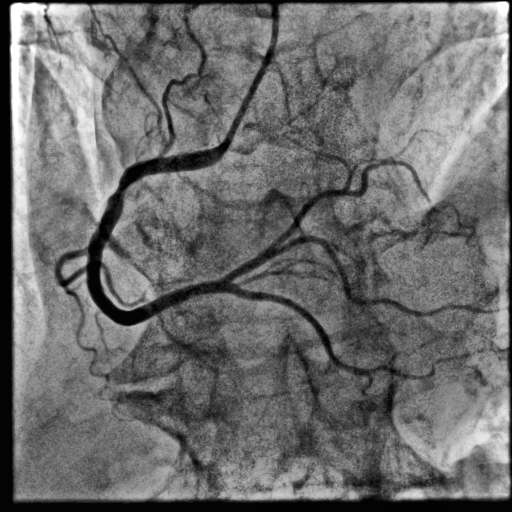pborca: (223, 161, 429, 284)
pda: (226, 284, 498, 379)
rca: (86, 138, 231, 325)
